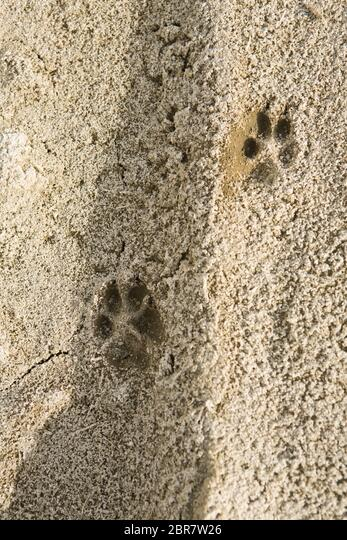coyote: (86, 273, 172, 376), (238, 105, 308, 189)
